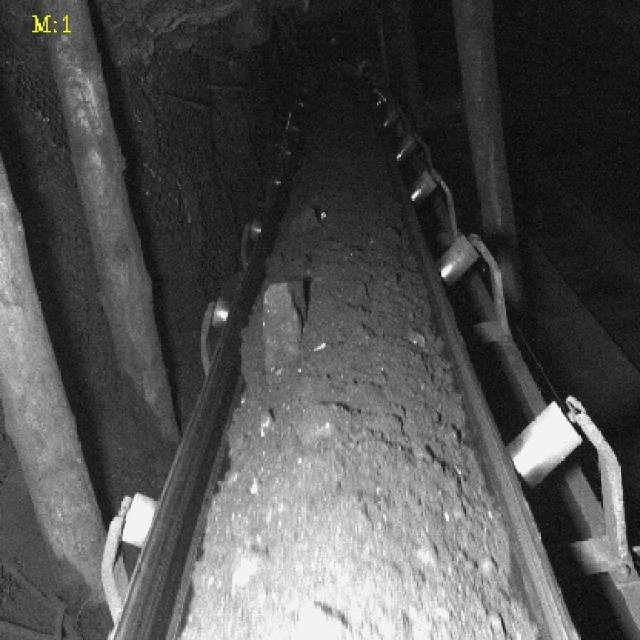large_sized_coal: (258, 280, 311, 372)
